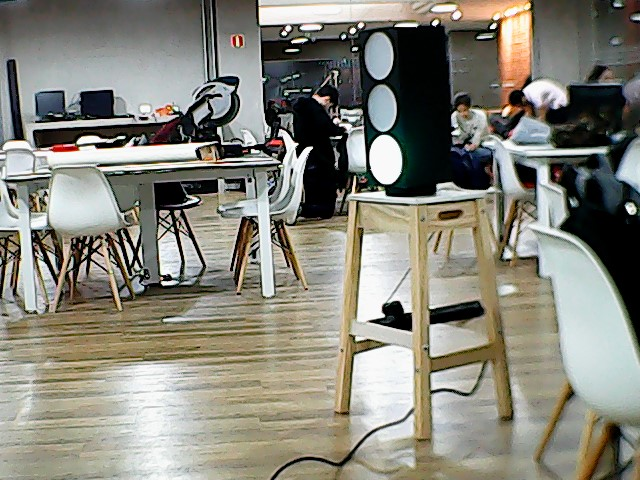verde: (356, 24, 455, 189)
